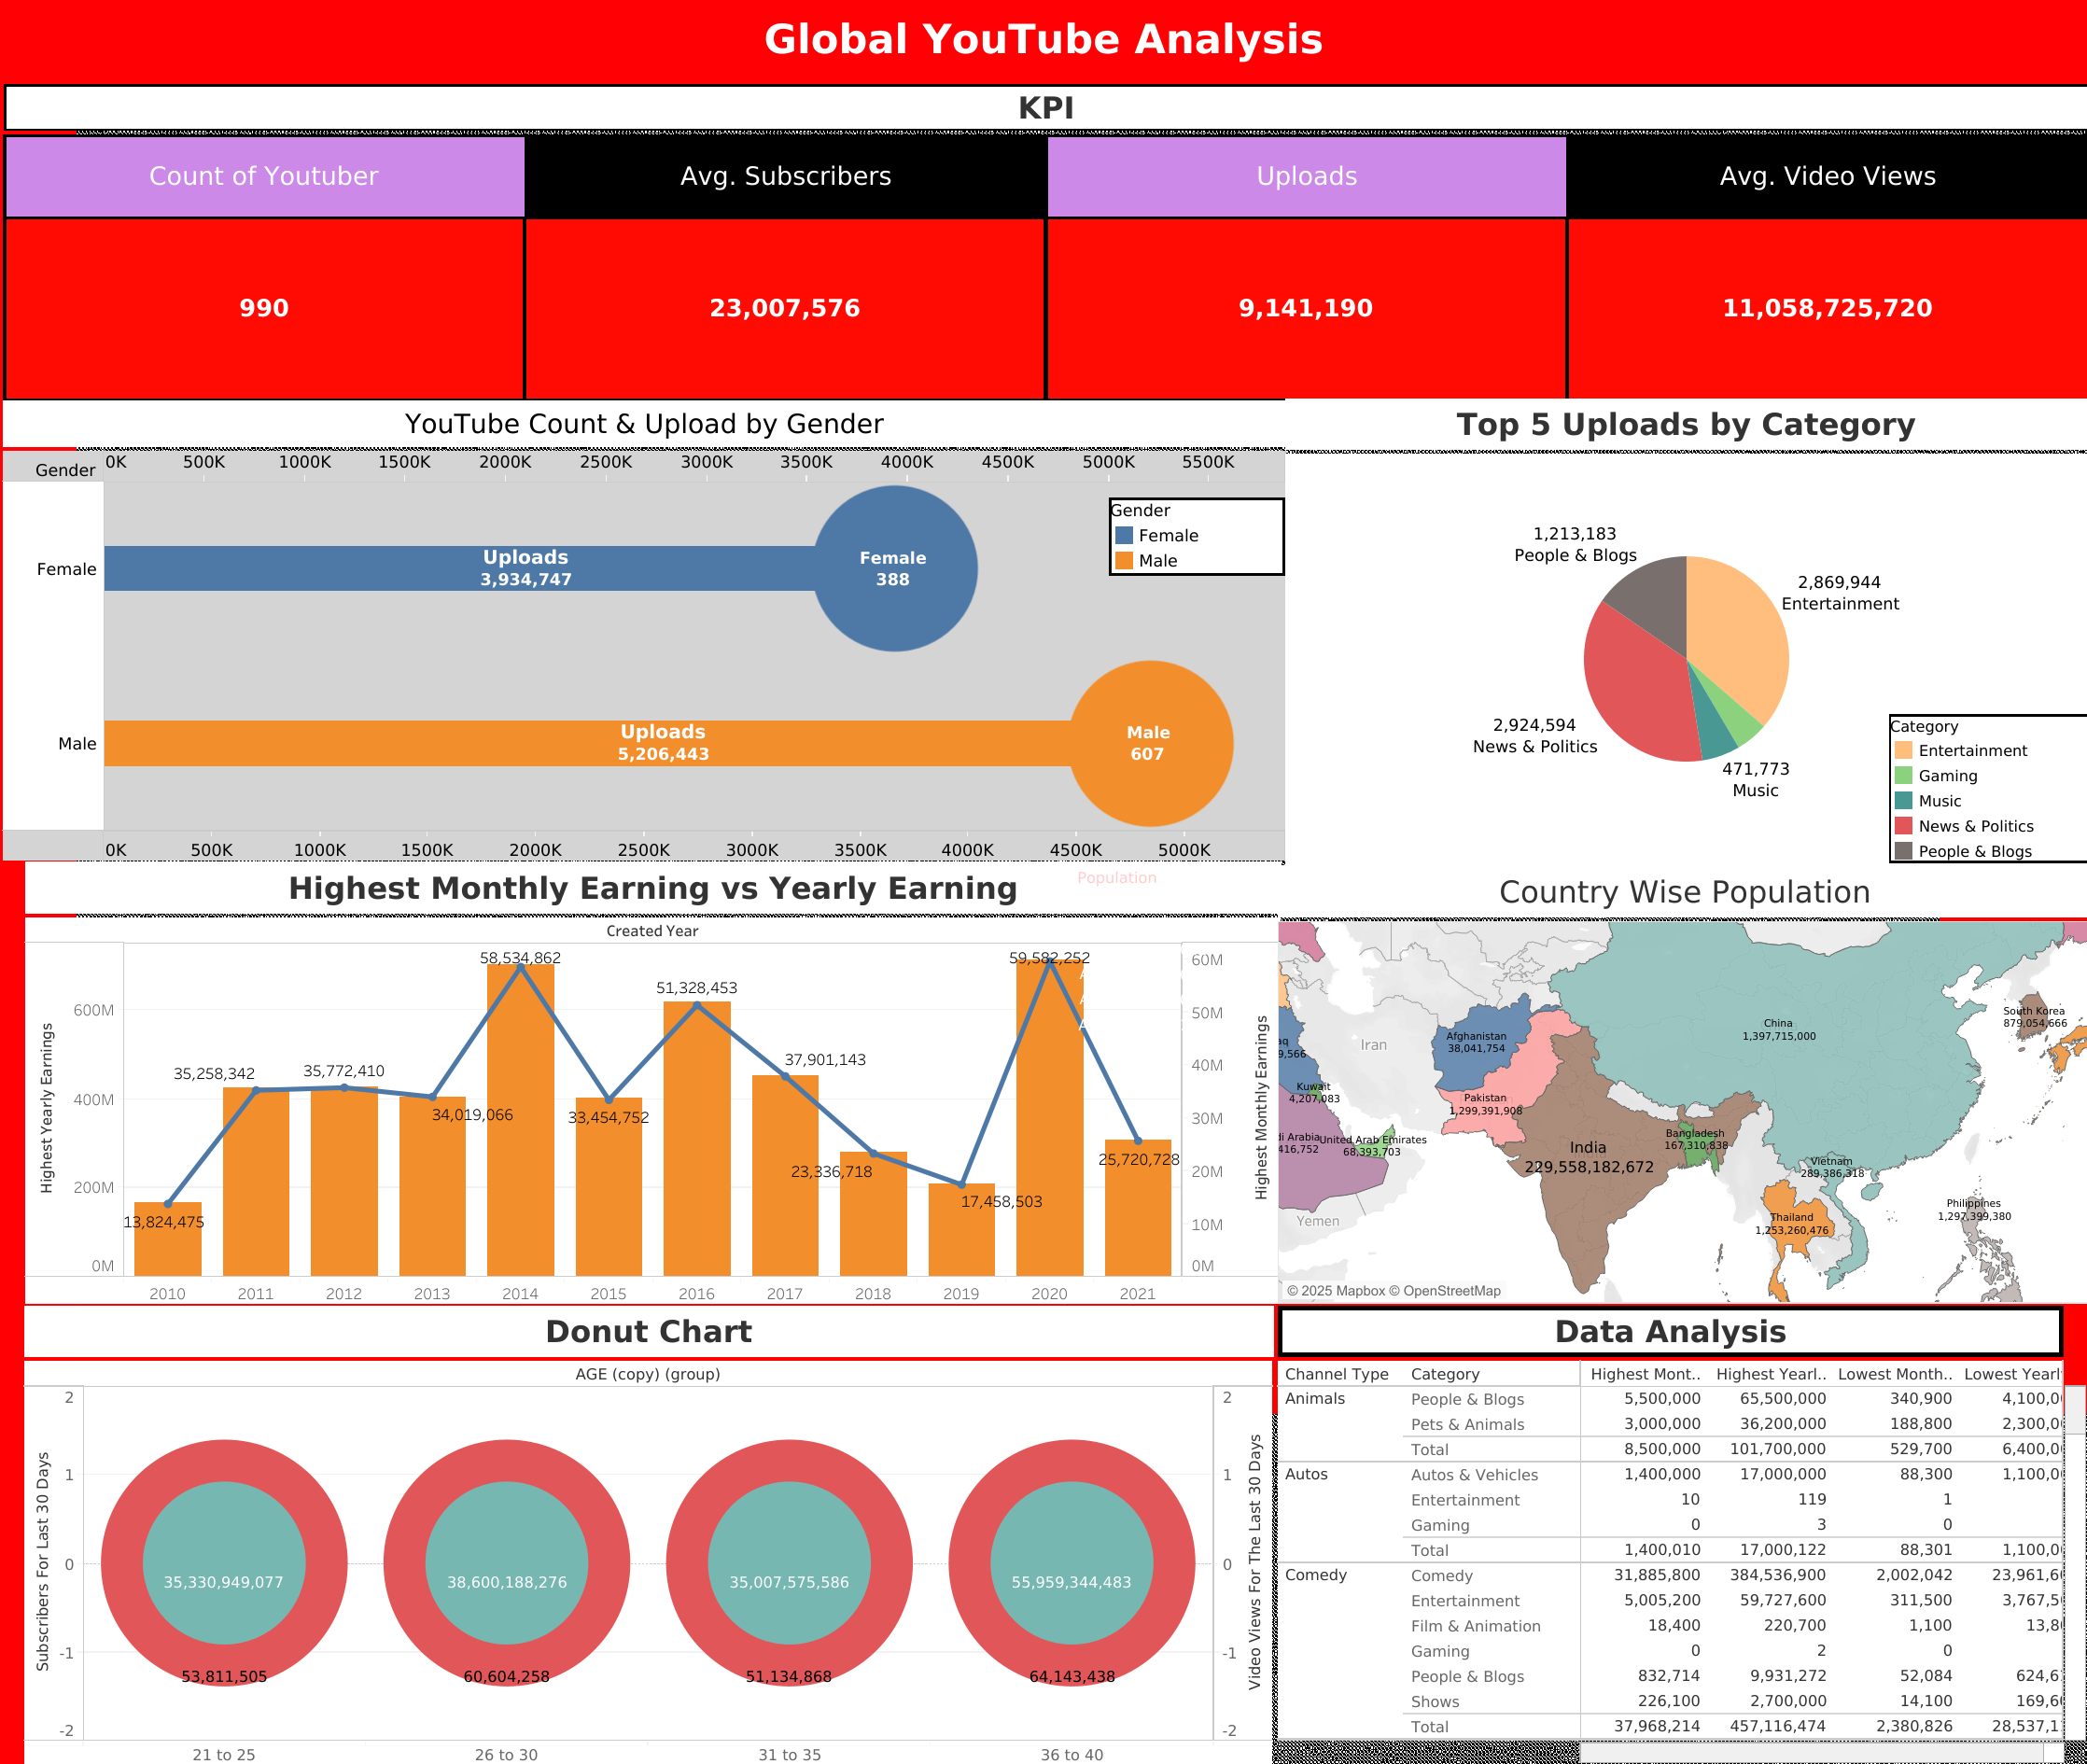

Layout of this report page (visuals, bound fields, positions):
{"tool":"tableau","page":{"name":"Dashboard 1","canvas":[1000,1000],"units":"permille","ordinal":0},"visuals":[{"type":"title","box":[4.8,5.7,990.3,37.8]},{"type":"worksheet","title":"Table","mark":"Automatic","box":[1.2,47.8,1000,179.9]},{"type":"image","param":"Image/youtubeeee 4.png","box":[812.3,51.4,191.9,483.9]},{"type":"worksheet","title":"Pie","mark":"Pie","box":[615.6,225.6,384.4,264.1]},{"type":"worksheet","title":"Lolipop","mark":"Automatic","rows":["Gender"],"cols":["uploads","uploads"],"box":[1.2,227,615,261.2]},{"type":"legend","title":"Lolipop","param":"[federated.032sxzz1ojjk0f1h95zpf167szoj].[none:Gender:nk]","box":[531.1,281.9,84.5,47.8]},{"type":"legend","title":"Pie","param":"[federated.032sxzz1ojjk0f1h95zpf167szoj].[none:category:nk]","box":[904.6,404.7,96.6,84.2]},{"type":"worksheet","title":"Bar","mark":"Bar","rows":["highest_yearly_earnings","highest_monthly_earnings"],"cols":["created_year"],"box":[12.1,488.2,601.7,251.2]},{"type":"legend","title":"Map","param":"[federated.032sxzz1ojjk0f1h95zpf167szoj].[sum:Population:qk]","box":[515.4,490.4,100.8,98.5]},{"type":"worksheet","title":"Map","mark":"Multipolygon","box":[612,490.4,390.5,248.4]},{"type":"worksheet","title":"Donut","mark":"Pie","rows":["subscribers_for_last_30_days","video_views_for_the_last_30_days"],"box":[11.5,739.5,598.7,261.2]},{"type":"worksheet","title":"Data Analysis","mark":"Automatic","rows":["channel_type","category"],"box":[612,739.5,387.4,259.8]}]}

Visuals, with their boxes on the dashboard's canvas, which has no fixed pixel size, in thousandths of its width and height (x1, y1, x2, y2). These are canvas units, not pixel positions in the 2087x1764 screenshot, which may show the page scaled, cropped or inside an application window:
title: box=[5, 6, 995, 44]
"Table" worksheet: box=[1, 48, 1001, 228]
image: box=[812, 51, 1004, 535]
"Pie" worksheet (Pie marks): box=[616, 226, 1000, 490]
"Lolipop" worksheet: box=[1, 227, 616, 488]
"Lolipop" legend: box=[531, 282, 616, 330]
"Pie" legend: box=[905, 405, 1001, 489]
"Bar" worksheet (Bar marks): box=[12, 488, 614, 739]
"Map" legend: box=[515, 490, 616, 589]
"Map" worksheet (Multipolygon marks): box=[612, 490, 1002, 739]
"Donut" worksheet (Pie marks): box=[12, 740, 610, 1001]
"Data Analysis" worksheet: box=[612, 740, 999, 999]
